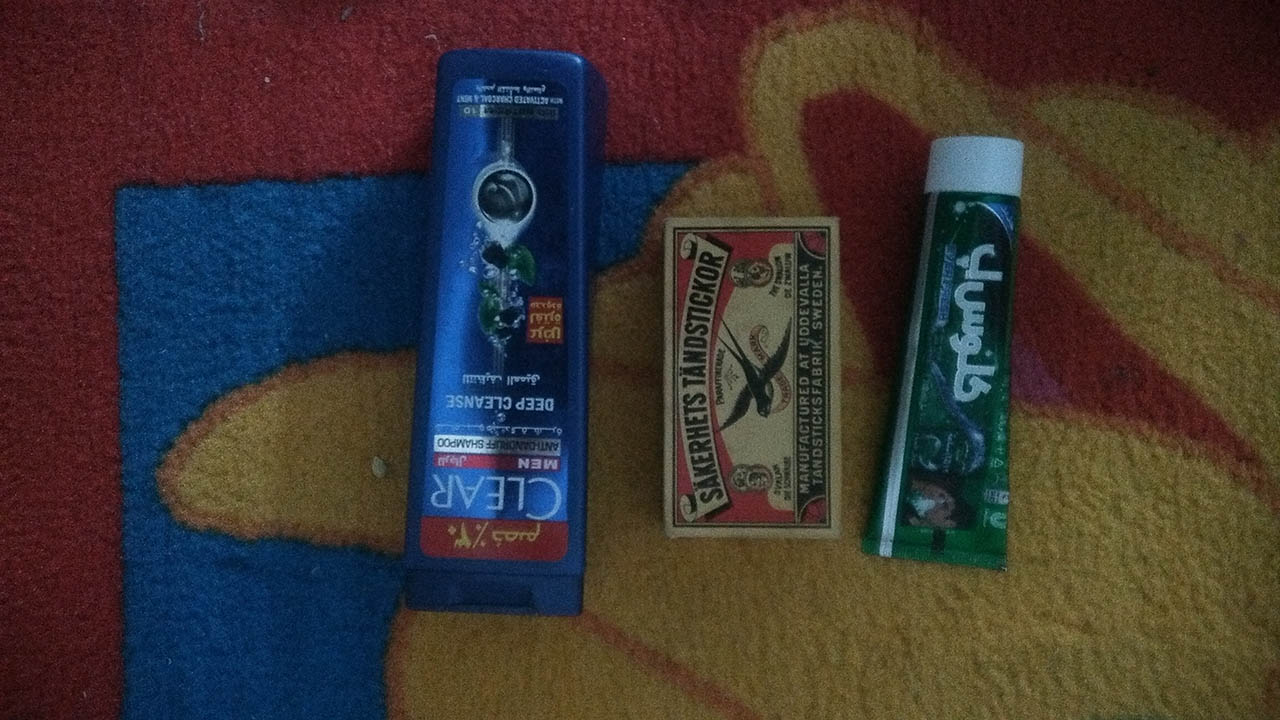Shampoo-Clear 4.7$: (395, 39, 596, 621)
Toothpaste-Closeup 3.04$: (872, 124, 1038, 572)
match-sticks .90$: (649, 206, 845, 549)
